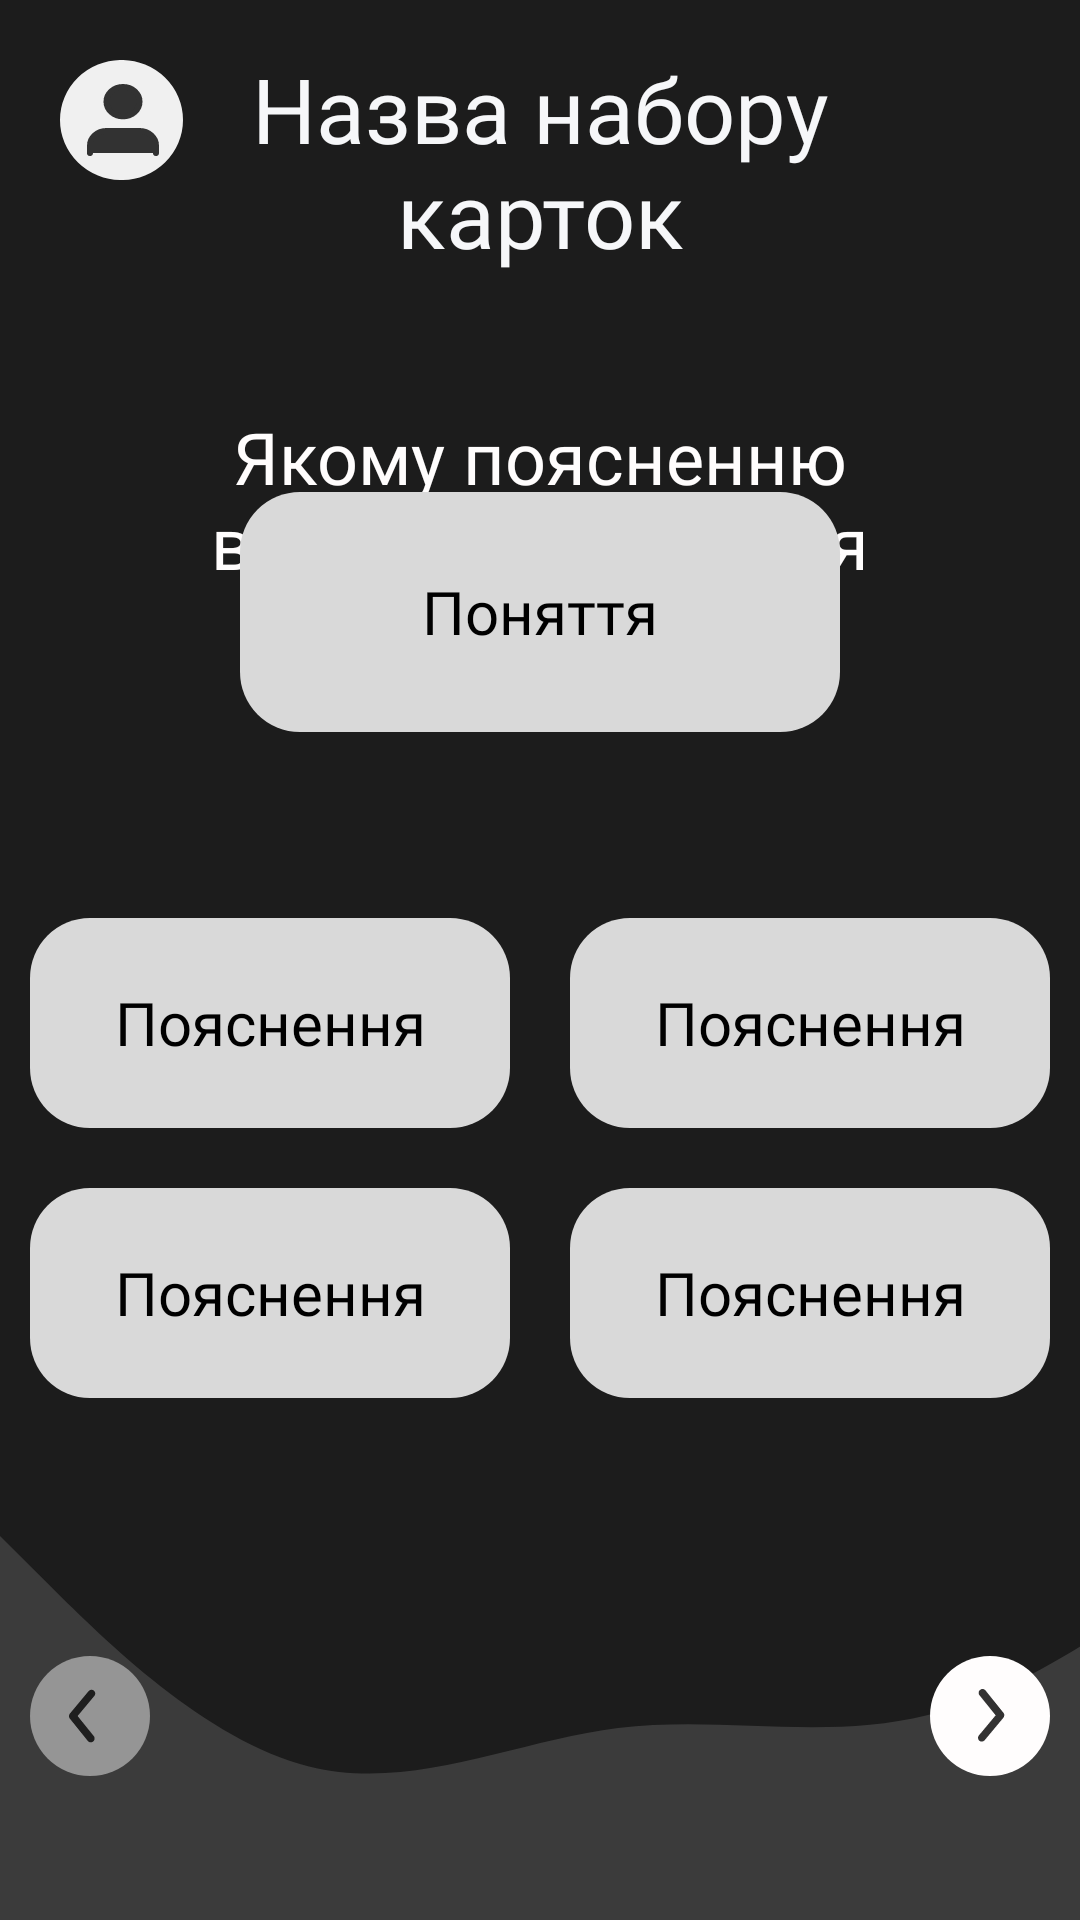

Where to tap for icons on this 1080x1920 app screen, as (x,y):
left back pas: (90,1716)
Акаунта: (121,120)
Вперед: (990,1716)
